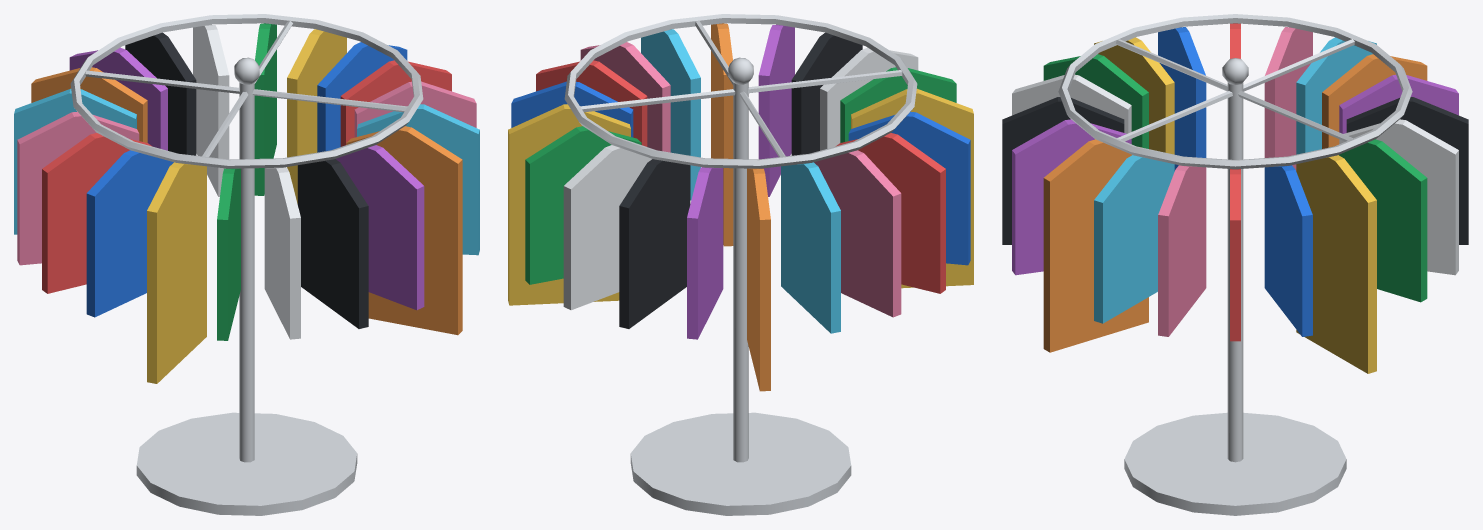
File: round_rack.glb
3 renders of one model, left to right at view 1: azimuth 30°, elevation 25°; view 2: azimuth 150°, elevation 25°; view 3: azimuth 270°, elevation 25°, orthographic.
Parts seen in each view (by area): view 1: round_rack; view 2: round_rack; view 3: round_rack.
Part boxes in pixels (x1,y1,x2,y2): round_rack: (14,14,479,515); round_rack: (508,14,973,515); round_rack: (1002,14,1468,515).
Bounding box in the file's own units: 1.68 × 1.63 × 1.68.
